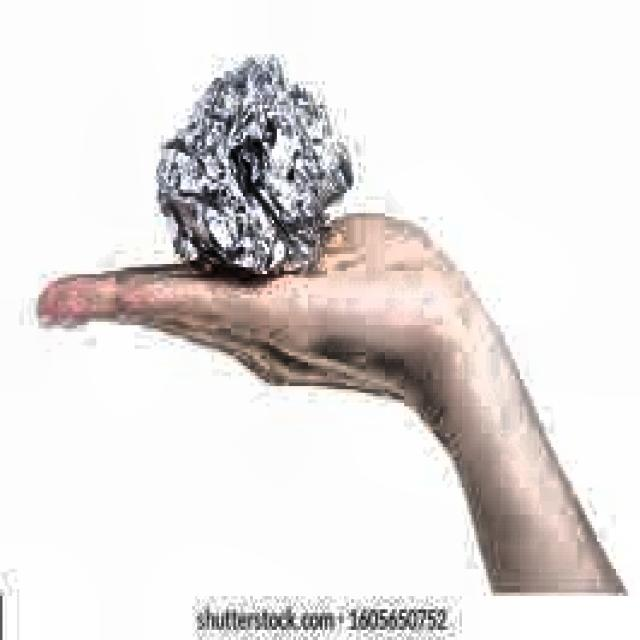Foil: (148, 26, 356, 286)
